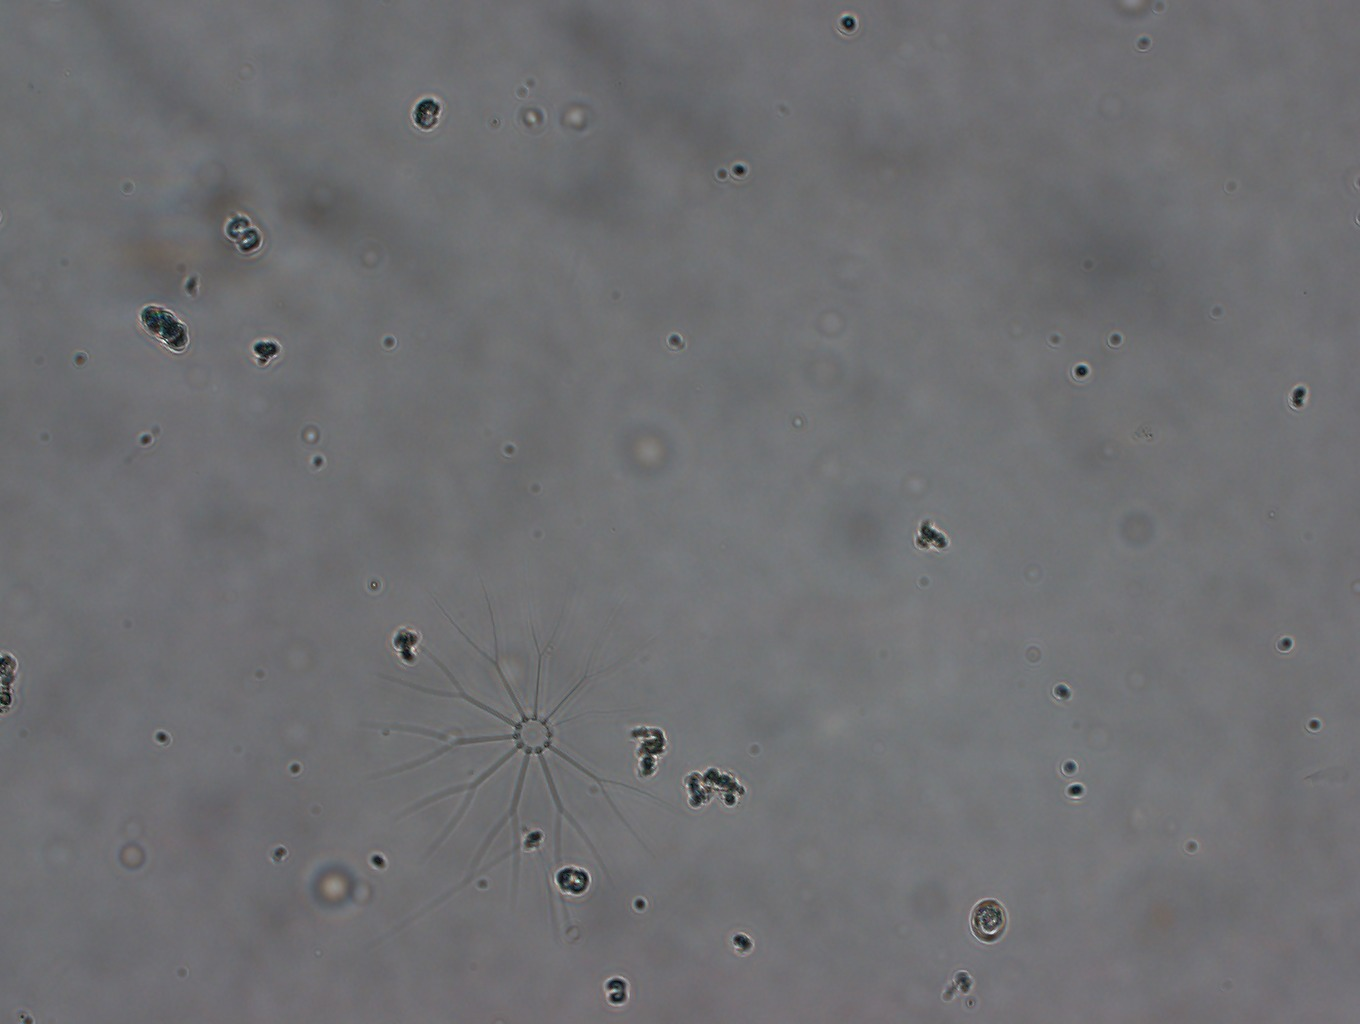bacteriastrum: (370, 587, 682, 949)
